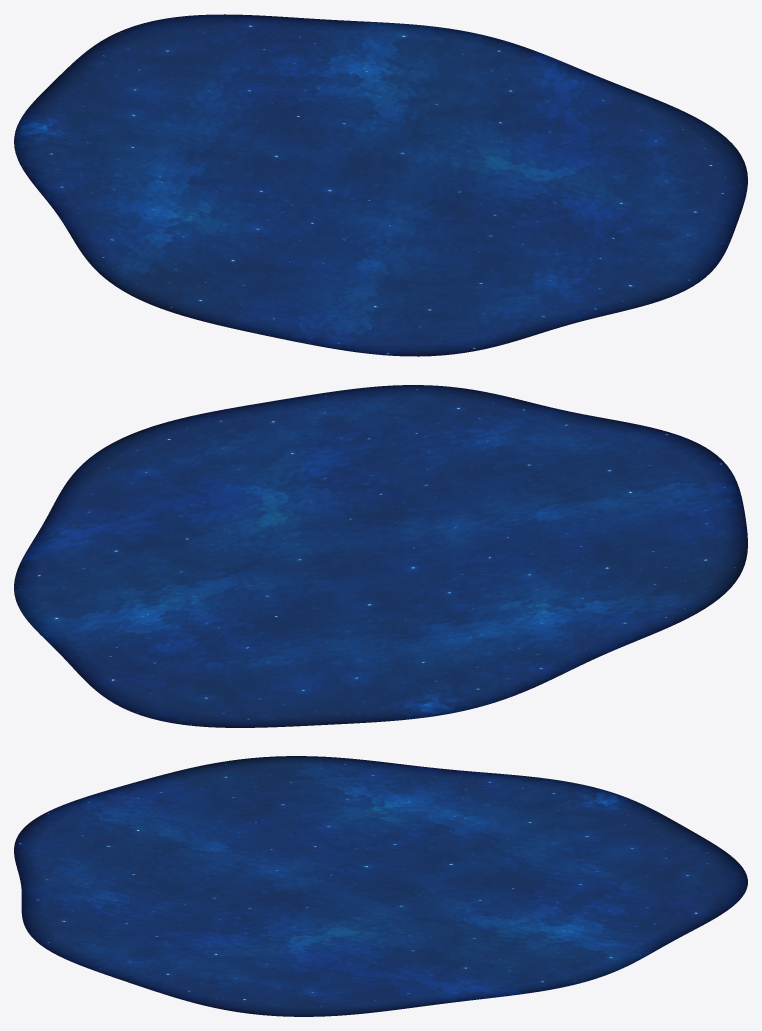
Rendered from SM_SP_StarPondSurface.fbx.
3 renders of one model, top to bottom at view 1: azimuth 30°, elevation 25°; view 2: azimuth 150°, elevation 25°; view 3: azimuth 270°, elevation 25°, orthographic. The views are drawn at different scales.
Parts seen in each view (by area): view 1: SM_SP_StarPondSurface; view 2: SM_SP_StarPondSurface; view 3: SM_SP_StarPondSurface.
Part boxes in pixels (<box>): SM_SP_StarPondSurface: <box>14,14,747,356</box>; SM_SP_StarPondSurface: <box>14,385,747,727</box>; SM_SP_StarPondSurface: <box>14,756,747,1016</box>.
Bounding box in the file's own units: 24.63 × 29.28 × 0.
